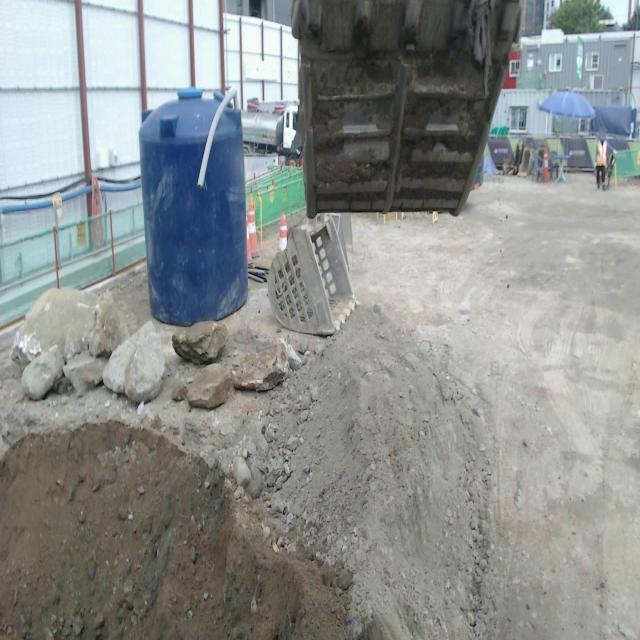red-sand: (0, 421, 349, 639)
stone: (11, 287, 127, 366), (102, 322, 165, 402), (231, 341, 289, 391), (172, 321, 228, 364), (21, 345, 64, 400), (186, 364, 231, 408), (63, 351, 107, 394)
white-sand: (150, 180, 640, 639)
